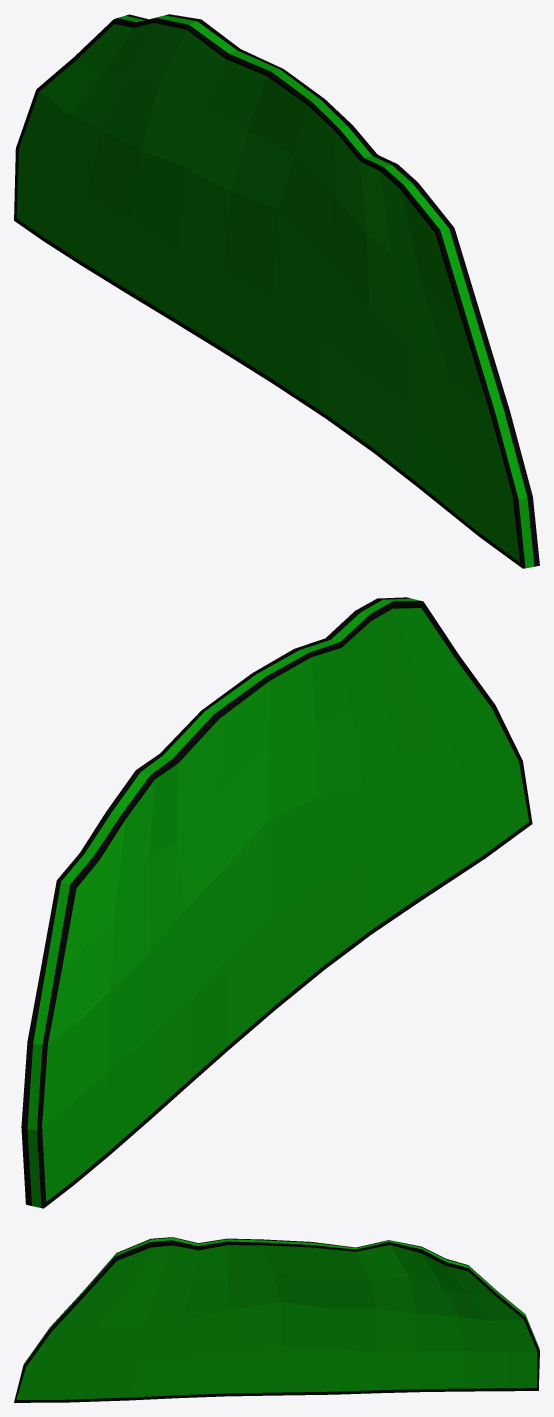
File: CardboardBush06.fbx
3 renders of one model, top to bottom at view 1: azimuth 30°, elevation 25°; view 2: azimuth 150°, elevation 25°; view 3: azimuth 270°, elevation 25°, orthographic. The views are drawn at different scales.
Visible parts, largest first — view 1: Cube.051; view 2: Cube.051; view 3: Cube.051.
Part boxes in pixels (left/top/right/bottom): Cube.051: left=14, top=14, right=539, bottom=568; Cube.051: left=21, top=597, right=532, bottom=1208; Cube.051: left=14, top=1237, right=539, bottom=1402.
Bounding box in the file's own units: 49.48 × 223 × 652.
